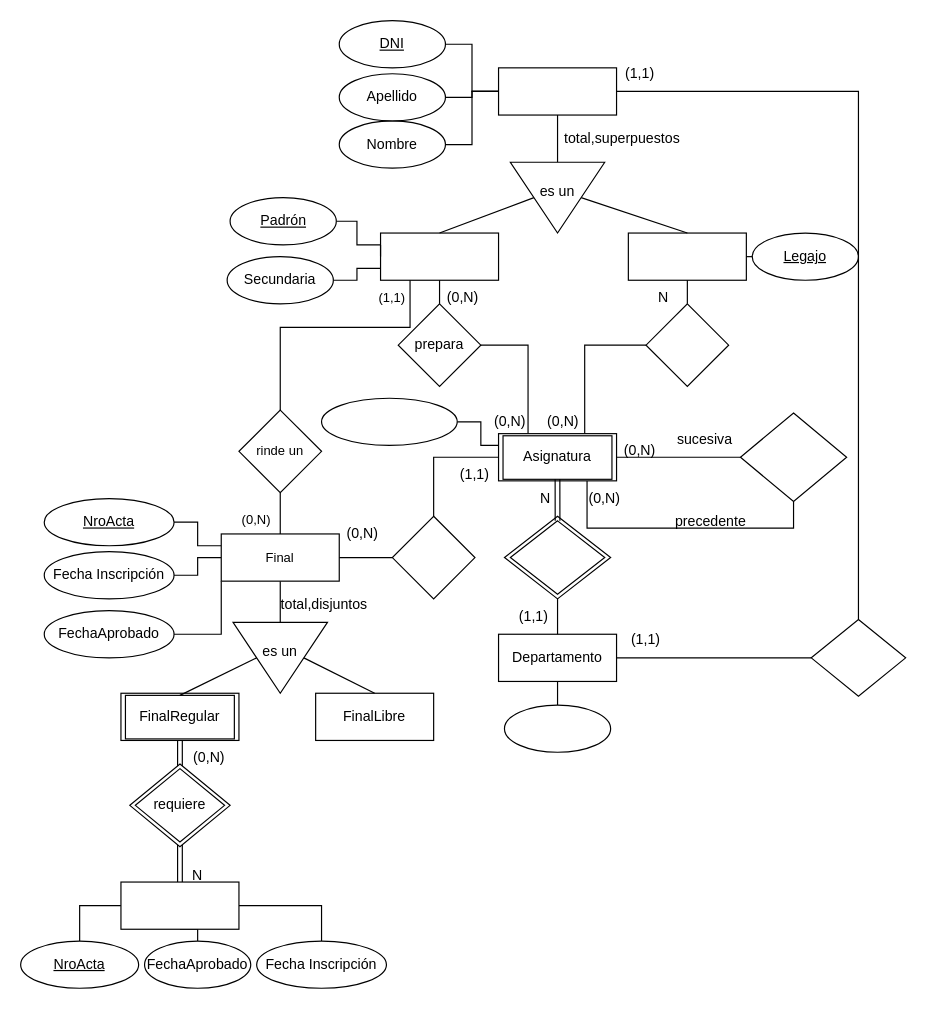
This 926x1009 diagram has some shape labels left out. The shapes that lost their labels are listed below. From the top down, each one's box as (x1, y1, x2, y2) in pixels, then its label:
(497, 67, 617, 115): Persona
(379, 232, 499, 280): Alumno
(627, 232, 746, 280): Docente
(645, 303, 729, 386): dicta
(320, 397, 457, 445): CódigoAsignatura
(739, 412, 847, 502): correlativa
(391, 515, 475, 599): se apruea mediante
(509, 520, 605, 594): pertenece a
(810, 618, 906, 696): es dirigido por
(503, 704, 611, 752): CódigoDepto
(120, 881, 239, 929): Cursada
